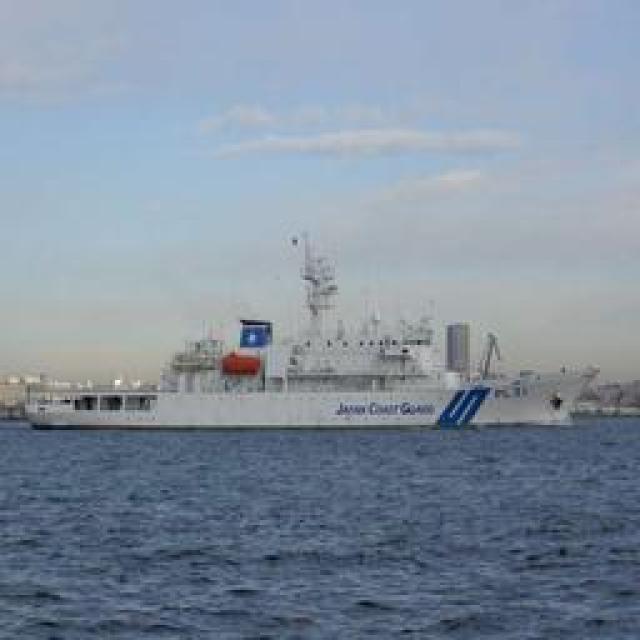CIV_Ship: (25, 370, 568, 435)
